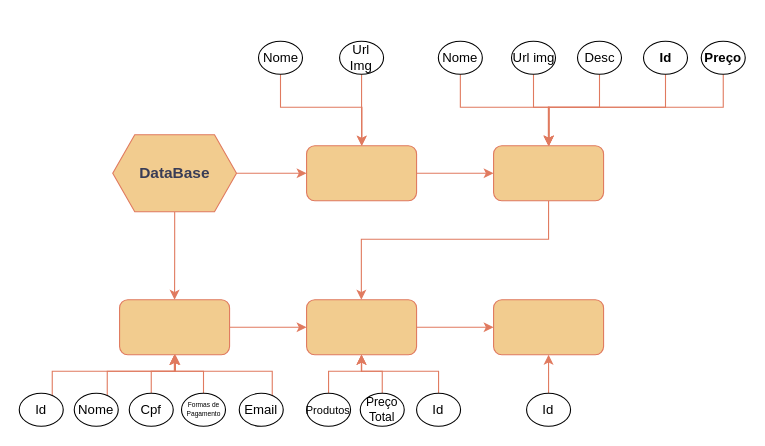
Image size: 765x446. Some labels were removed from this diagram. The centre of each missing label's shape, as x and y in pixels:
Carrinho: point (361, 327)
Categoria: point (361, 173)
Pedido: point (548, 327)
Produto: point (548, 173)
Usuário: point (174, 327)
